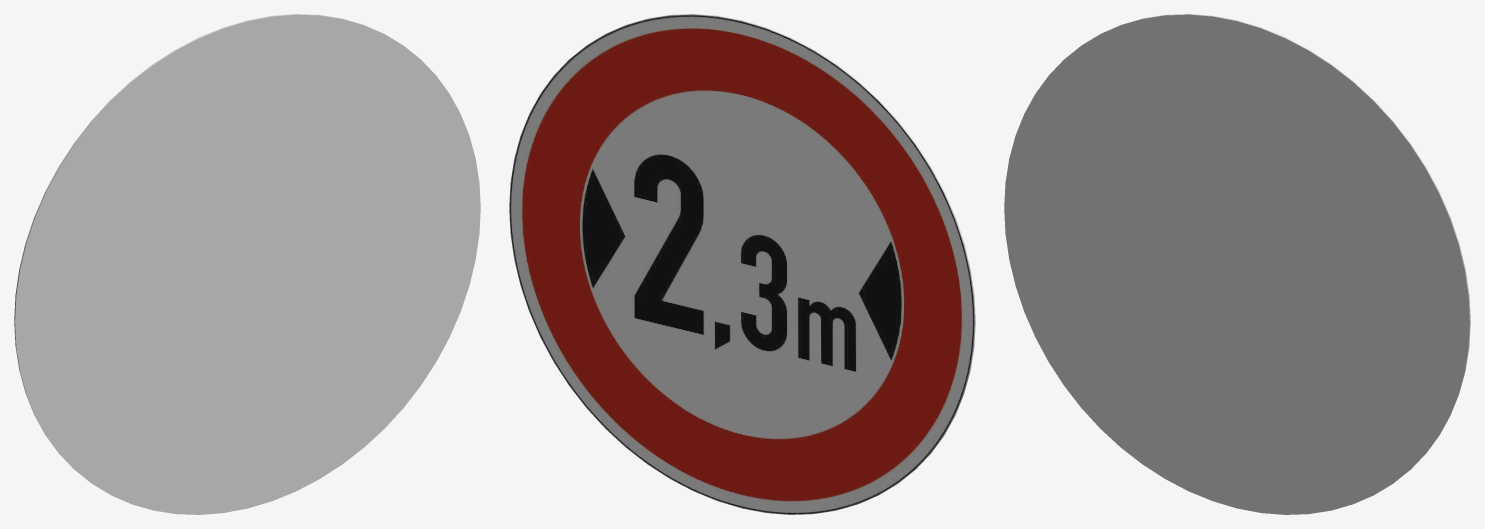
The picture shows the model from 3 angles, left to right: view 1: azimuth 30°, elevation 25°; view 2: azimuth 150°, elevation 25°; view 3: azimuth 330°, elevation 25°; orthographic projection.
Visible parts, largest first — view 1: Circle; view 2: Circle; view 3: Circle.
Part boxes in pixels (box(x1,y1,x2,y2)): Circle: box(14, 14, 480, 514); Circle: box(509, 14, 975, 514); Circle: box(1004, 14, 1470, 514).
Bounding box in the file's own units: 0.6 × 0.6 × 0.002.
Materials: 2 (1 with a texture image).
